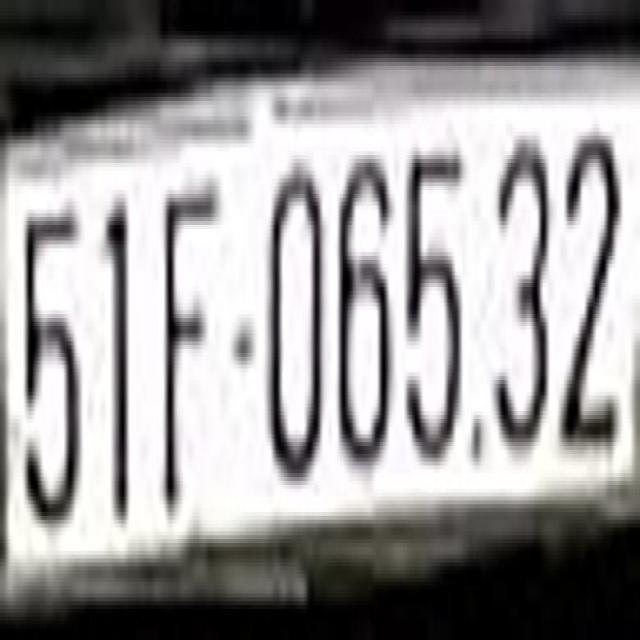0: (265, 147, 322, 489)
1: (100, 186, 132, 528)
2: (557, 120, 628, 466)
3: (489, 116, 553, 458)
5: (19, 182, 82, 520), (404, 124, 464, 462)
6: (338, 140, 392, 458)
F: (158, 182, 218, 520)
